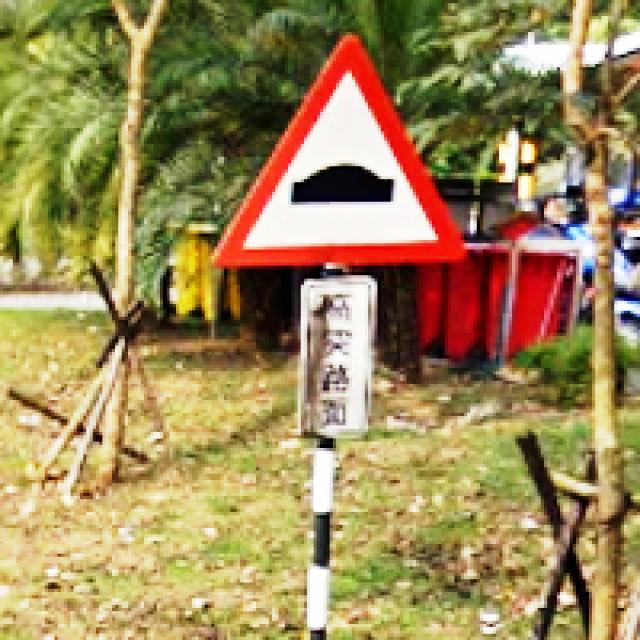hump: (213, 35, 466, 264)
